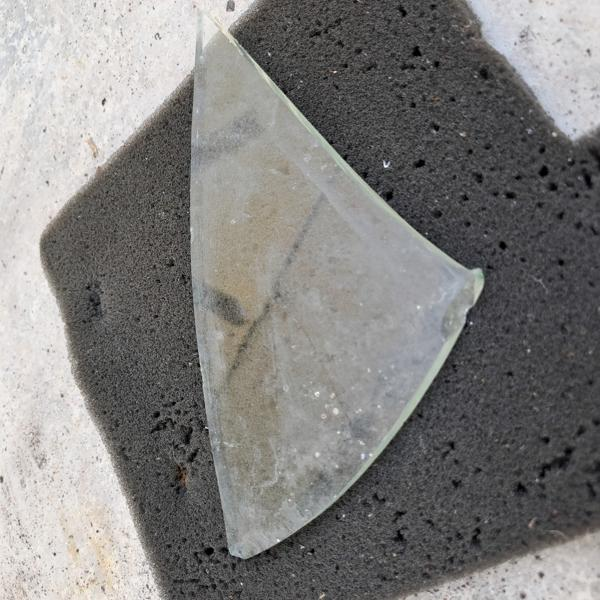Anorganik: (159, 6, 497, 564)
